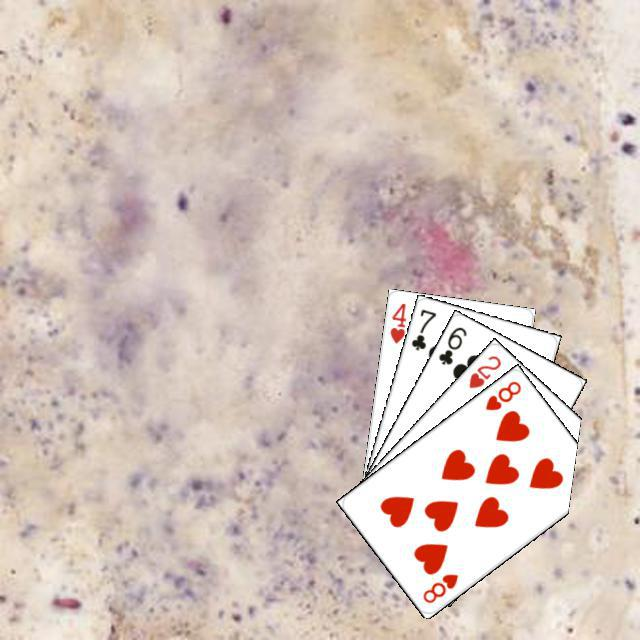2h: (464, 350, 503, 390)
4h: (385, 298, 408, 345)
6c: (434, 322, 468, 367)
7c: (406, 304, 438, 352)
8h: (480, 376, 523, 412), (418, 569, 460, 605)
